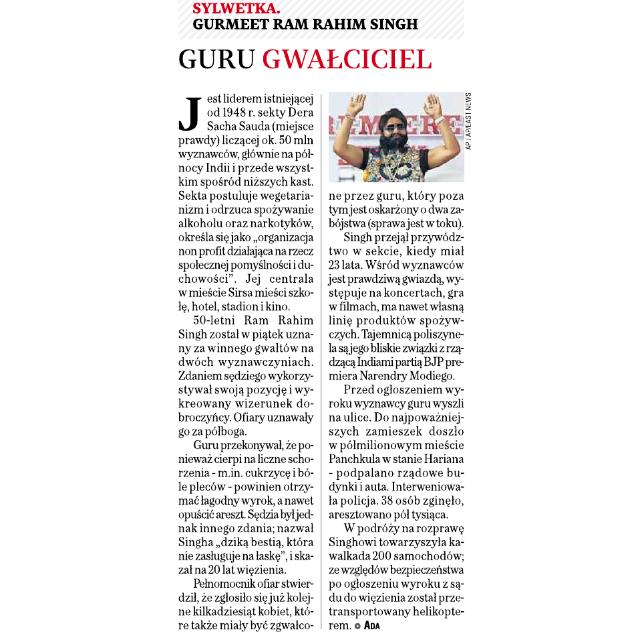body: (174, 87, 320, 636), (326, 188, 472, 634)
image: (325, 86, 467, 184)
title: (178, 1, 436, 73)
